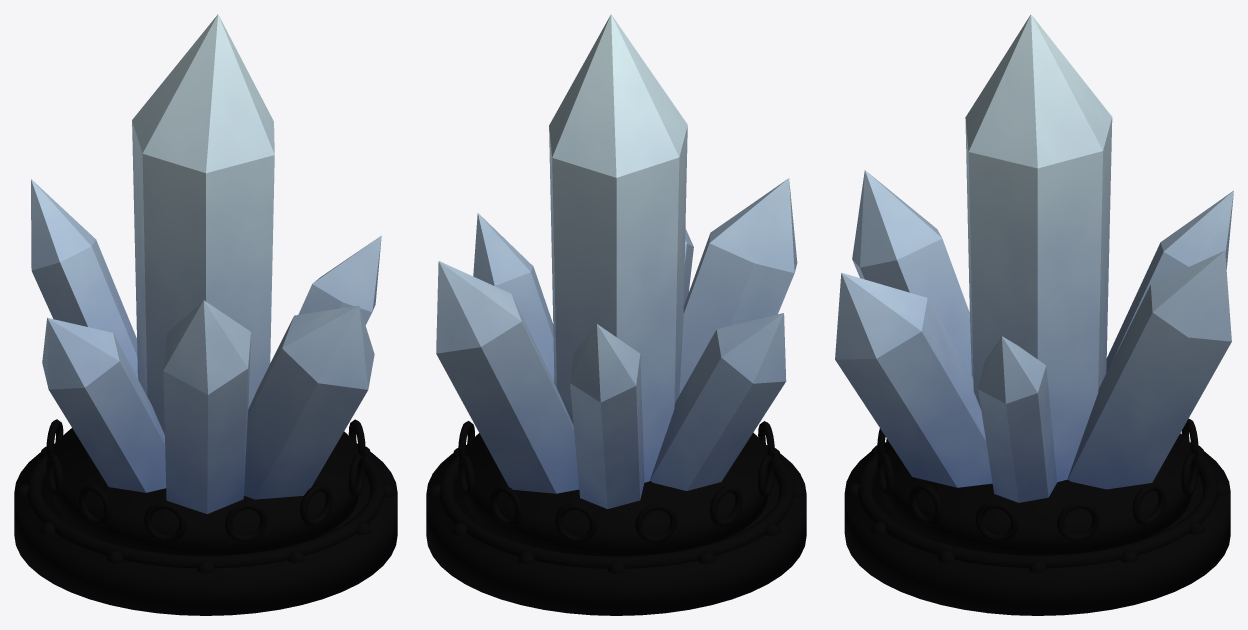
The model's file is crystal.glb.
The picture shows the model from 3 angles, left to right: view 1: azimuth 30°, elevation 25°; view 2: azimuth 150°, elevation 25°; view 3: azimuth 270°, elevation 25°; orthographic projection.
Visible parts, largest first — view 1: Crystal, Base; view 2: Crystal, Base; view 3: Crystal, Base.
Part boxes in pixels (box(x1,y1,x2,y2)): Crystal: box(31, 14, 381, 513); Base: box(14, 419, 397, 615); Crystal: box(436, 14, 797, 509); Base: box(426, 421, 806, 615); Crystal: box(835, 14, 1233, 502); Base: box(844, 418, 1230, 615).
Size of the model in its own units: 2.5 by 3.75 by 2.58.
Materials: 2 (2 with a texture image).
